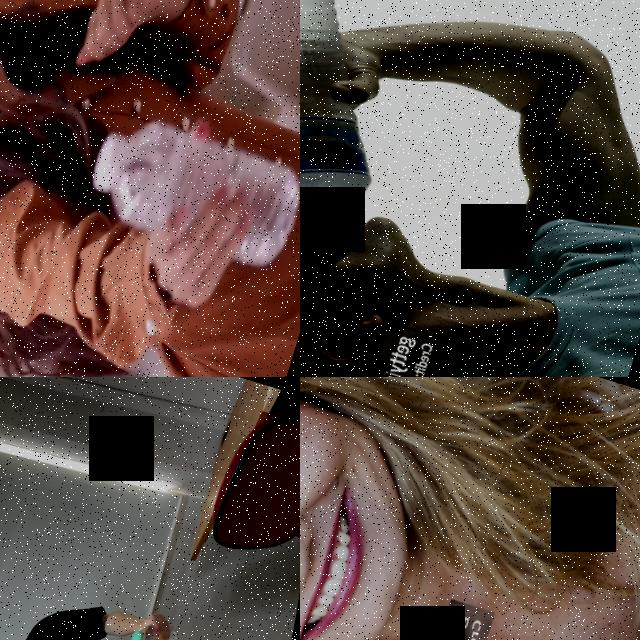bottle: (79, 106, 300, 275), (300, 0, 433, 246), (128, 609, 182, 640)
